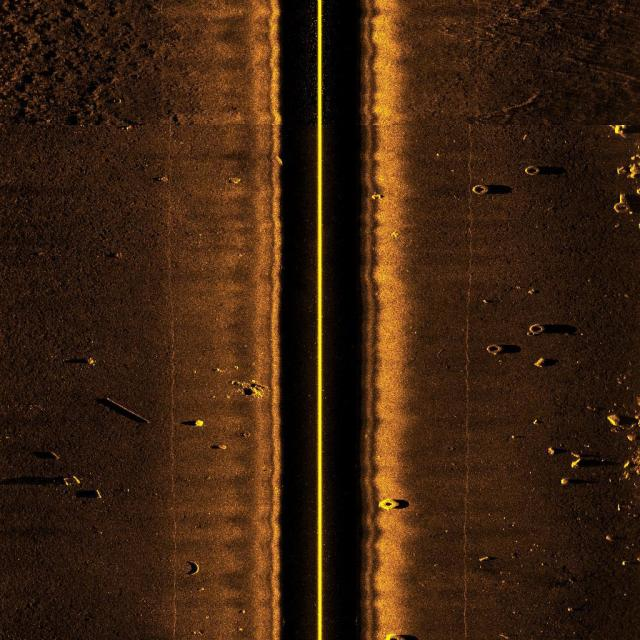mine: (70, 485, 106, 503), (554, 476, 588, 494), (29, 448, 64, 462), (530, 357, 560, 368), (476, 552, 500, 562)
other: (91, 394, 153, 427), (231, 370, 267, 399), (378, 492, 407, 518), (472, 180, 506, 202), (524, 314, 549, 340), (176, 560, 204, 582), (523, 160, 551, 180), (481, 339, 503, 358)
